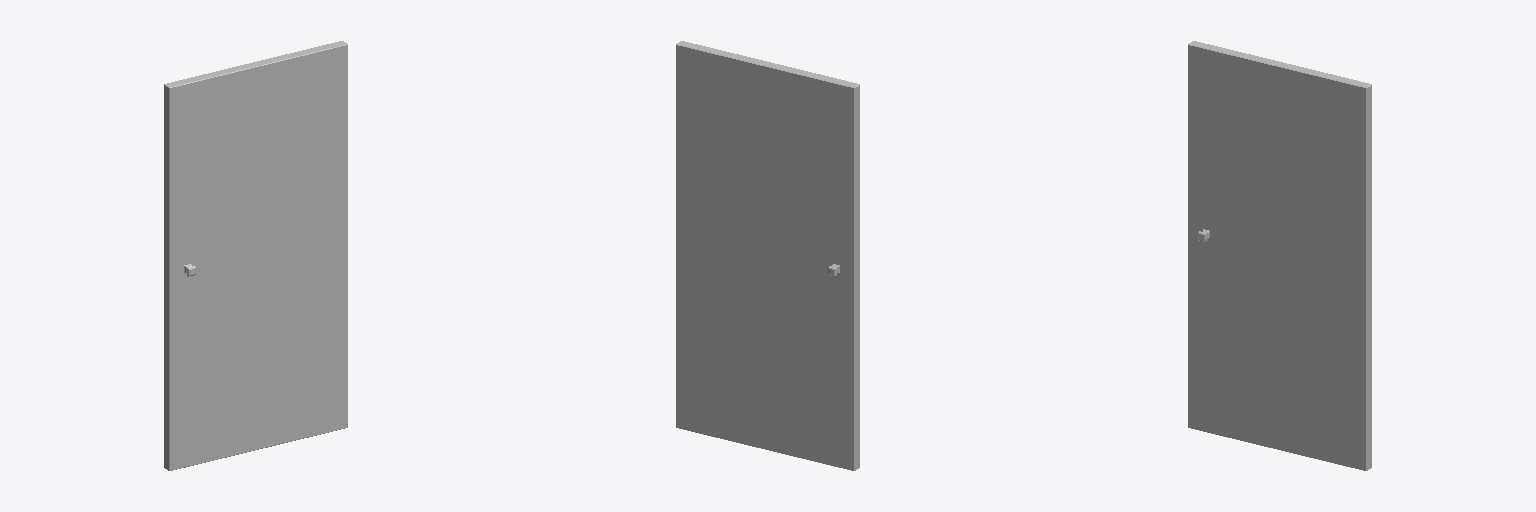
File: Porta.obj
The picture shows the model from 3 angles: view 1: azimuth 30°, elevation 25°; view 2: azimuth 150°, elevation 25°; view 3: azimuth 330°, elevation 25°; orthographic projection.
Visible parts, largest first — view 1: porta; view 2: porta; view 3: porta.
Boxes of the visible parts, x1=… form: porta: x1=164, y1=41, x2=347, y2=470; porta: x1=676, y1=41, x2=859, y2=470; porta: x1=1188, y1=41, x2=1371, y2=470.
Size of the model in its own units: 1.22 by 2.49 by 0.1751.